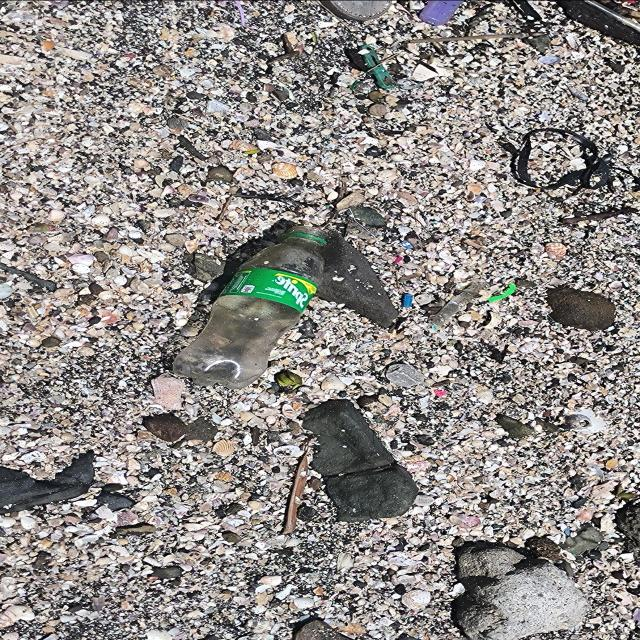plastic_waste: (172, 225, 330, 391)
